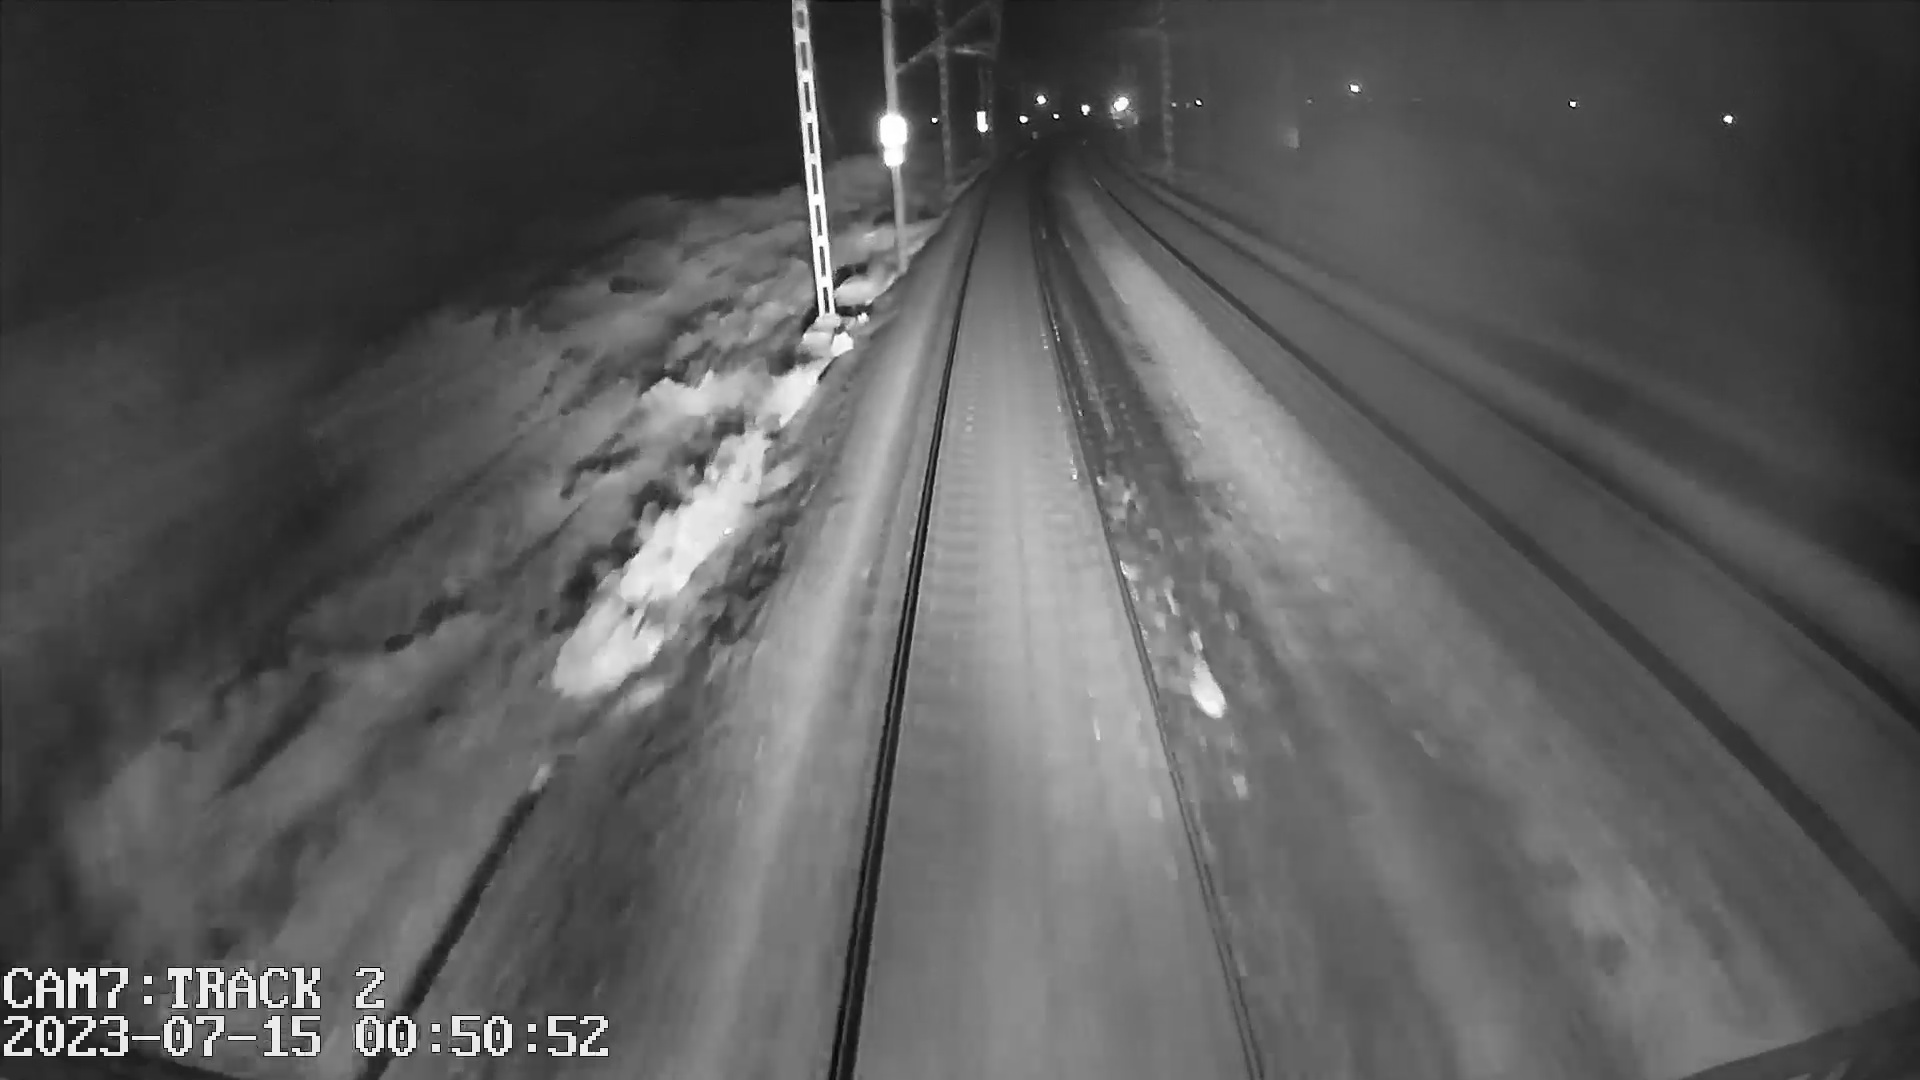track1: (847, 189, 1256, 1058)
track2: (1107, 186, 1909, 850)
